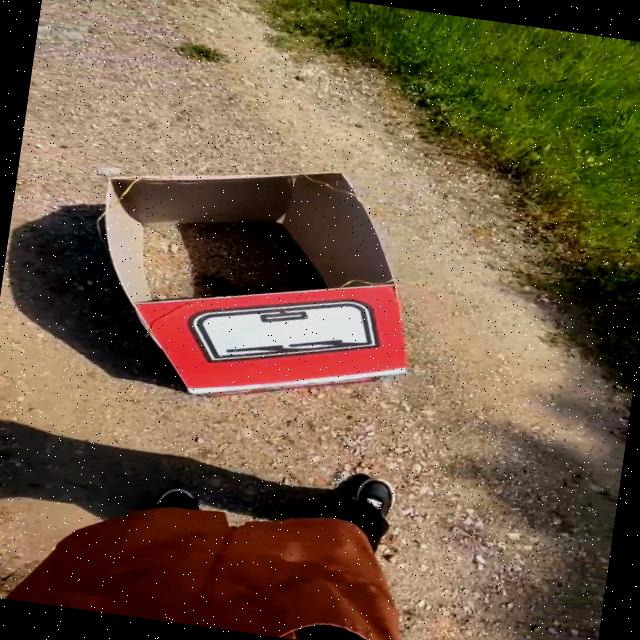red_car: (39, 123, 506, 442)
